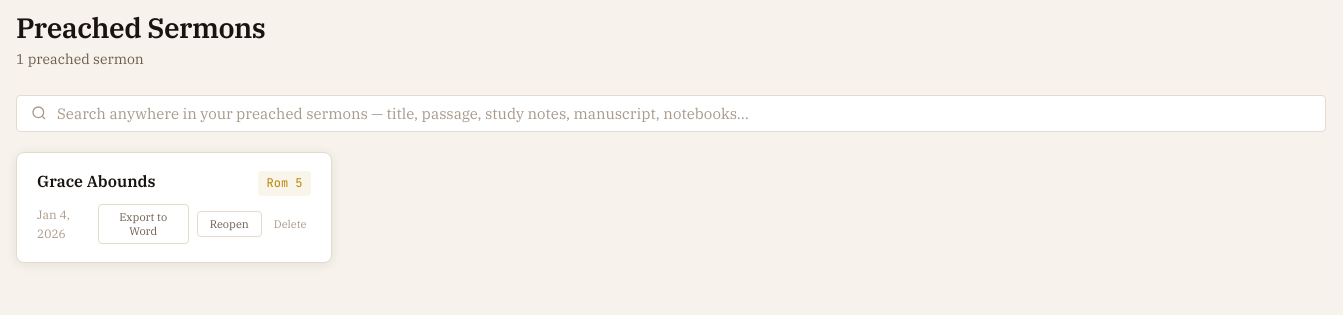
Test: CompletedSermons — export + reopen correctness › finding 36: reopening during a search drops the sermon from the search results too
Expected: the text "Grace Abounds" is shown, [37,171,156,191]
Replace the text in the field with "grace": (684, 113) [57,104,1311,123]
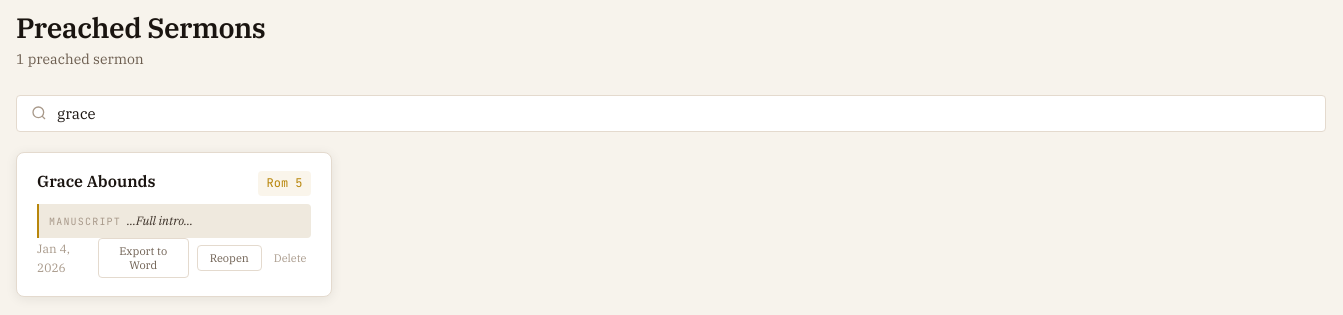
Click the button "Reopen": (229, 258) [197,245,262,271]
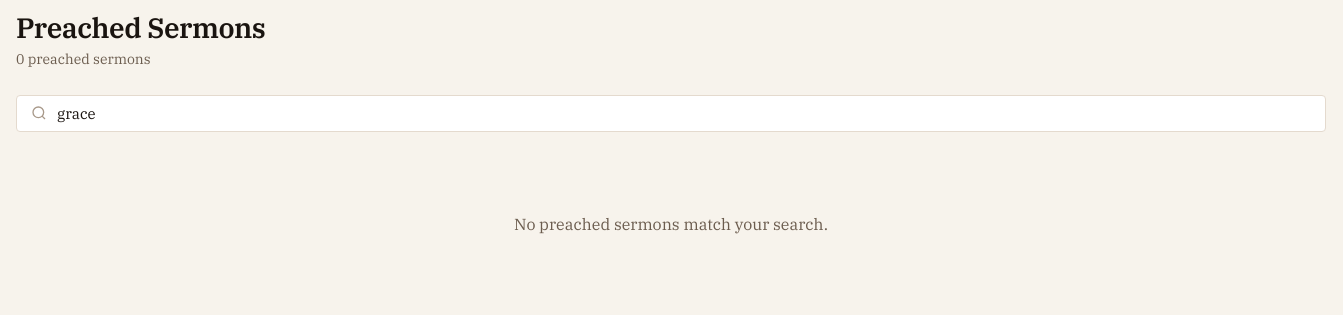
Now the text "No preached sermons match your search." is shown, box [514,212,828,237]
